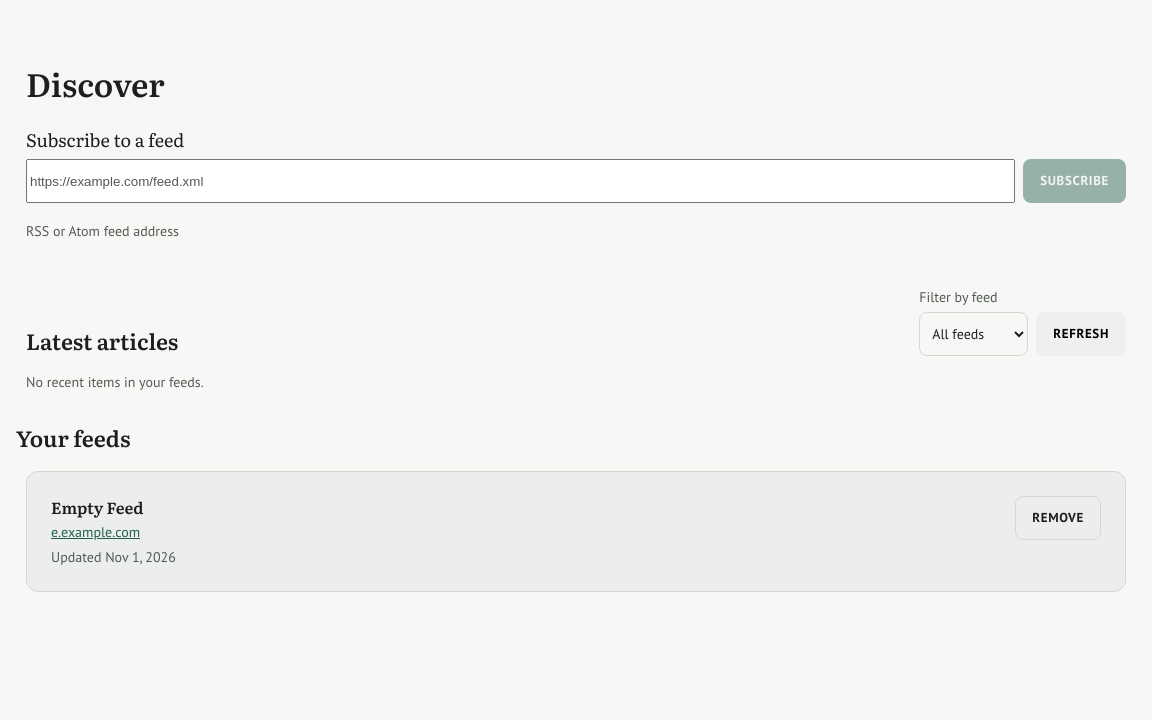
Test case: DiscoverView — the unified timeline (issue #123) › shows the filtered no-items line when the selected feed has nothing to show
expect the heading "Latest articles" is shown: met, box [26, 327, 178, 356]
expect the text "No recent items in your feeds." is shown: met, box [26, 373, 204, 391]
Select "Empty Feed" in the dropdown labelled "Filter by feed" at [974, 334], box [919, 312, 1028, 356]
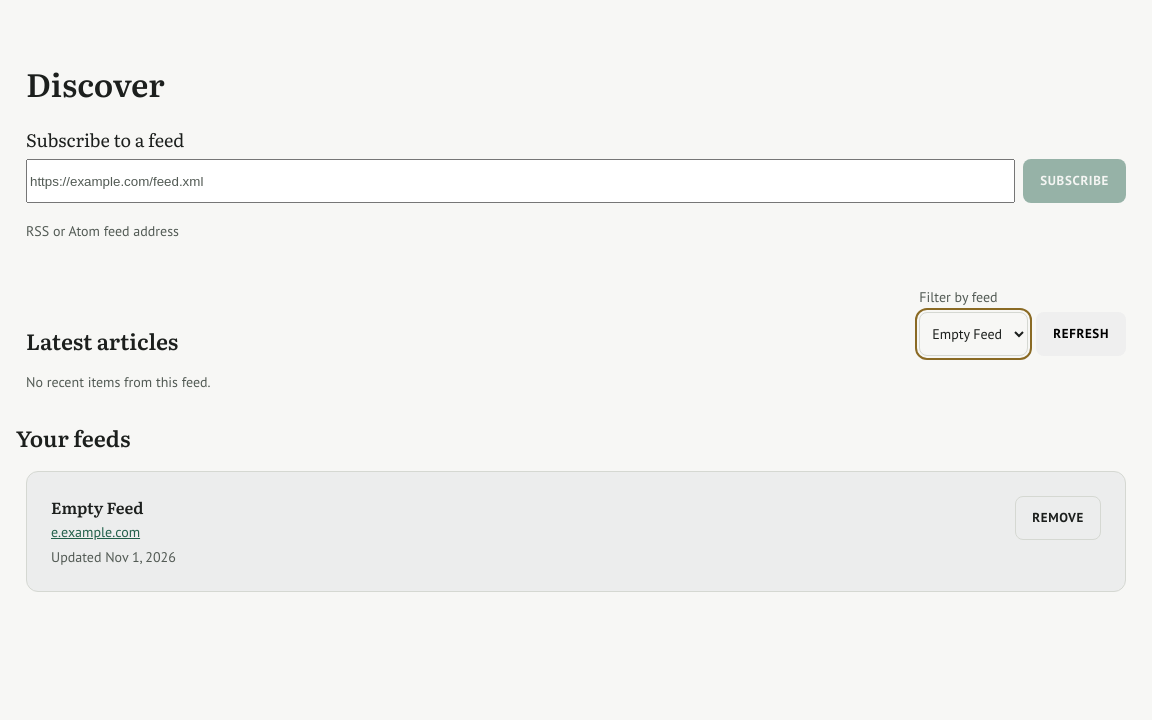
expect the text "No recent items from this feed." is shown: met, box [26, 373, 211, 391]
